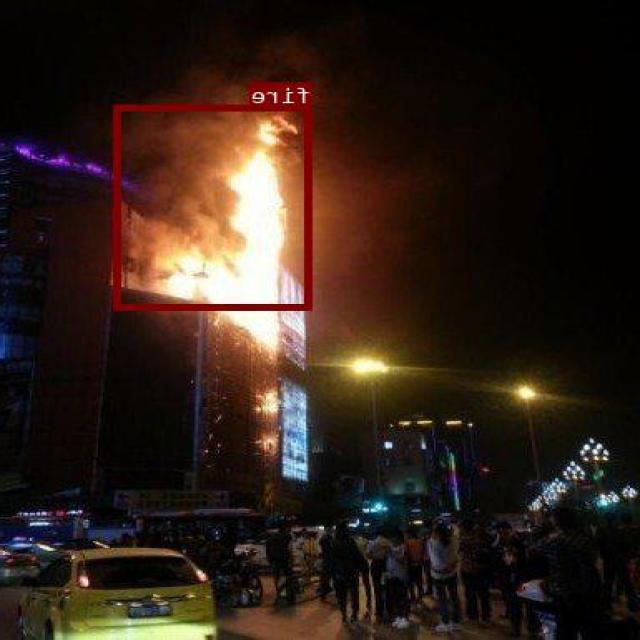fire: (115, 104, 314, 308)
